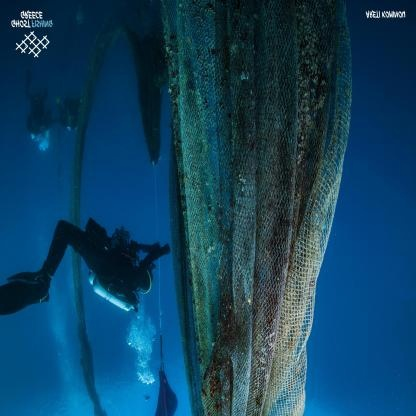net: (167, 1, 354, 416)
